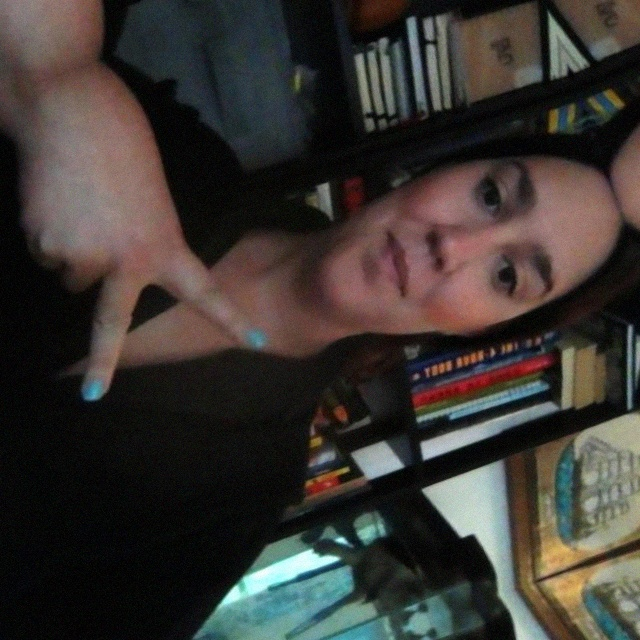Scissors: (0, 41, 276, 424)
